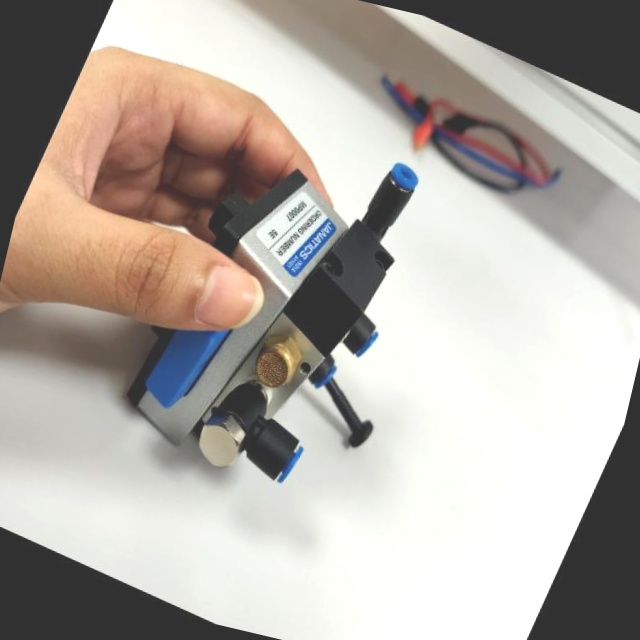5by2 DCV: (93, 61, 505, 549)
